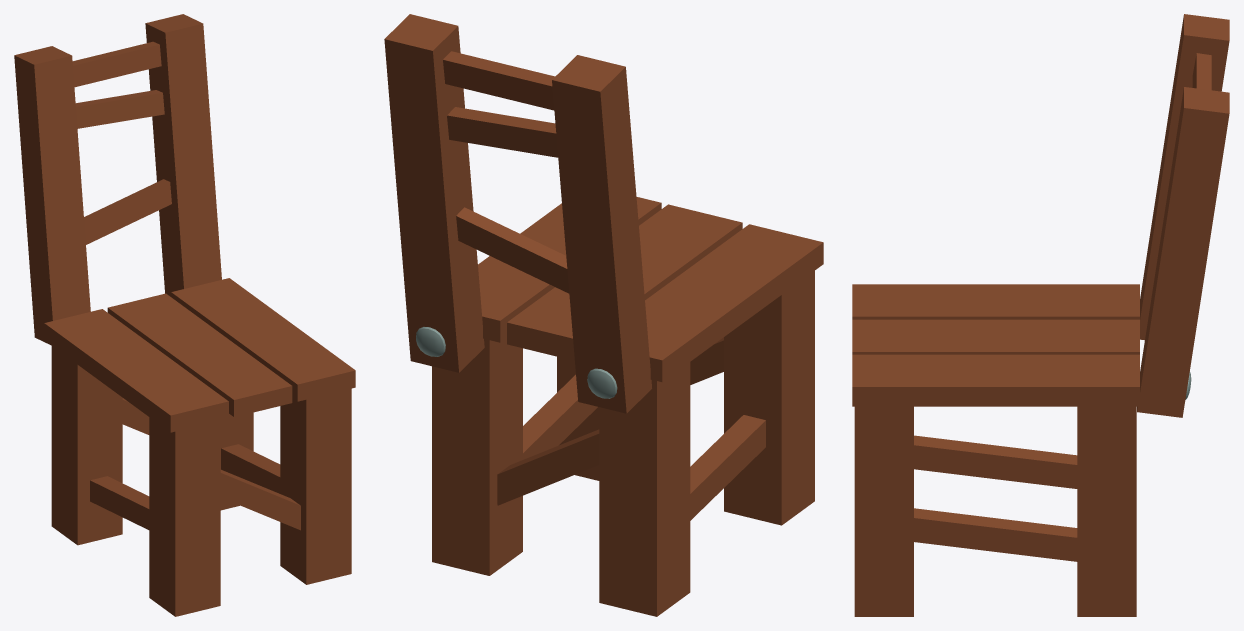
Rendered from Chair.fbx.
3 views of the same model, side by side, from view 1: azimuth 30°, elevation 25°; view 2: azimuth 150°, elevation 25°; view 3: azimuth 270°, elevation 25° (orthographic). The views are drawn at different scales.
Parts seen in each view (by area): view 1: Cube; view 2: Cube; view 3: Cube.
Boxes of the visible parts, box(x1,y1,x2,y2) form: Cube: box(14, 14, 355, 616); Cube: box(384, 14, 823, 616); Cube: box(852, 14, 1229, 616).
Bounding box in the file's own units: 70.11 × 161 × 109.
